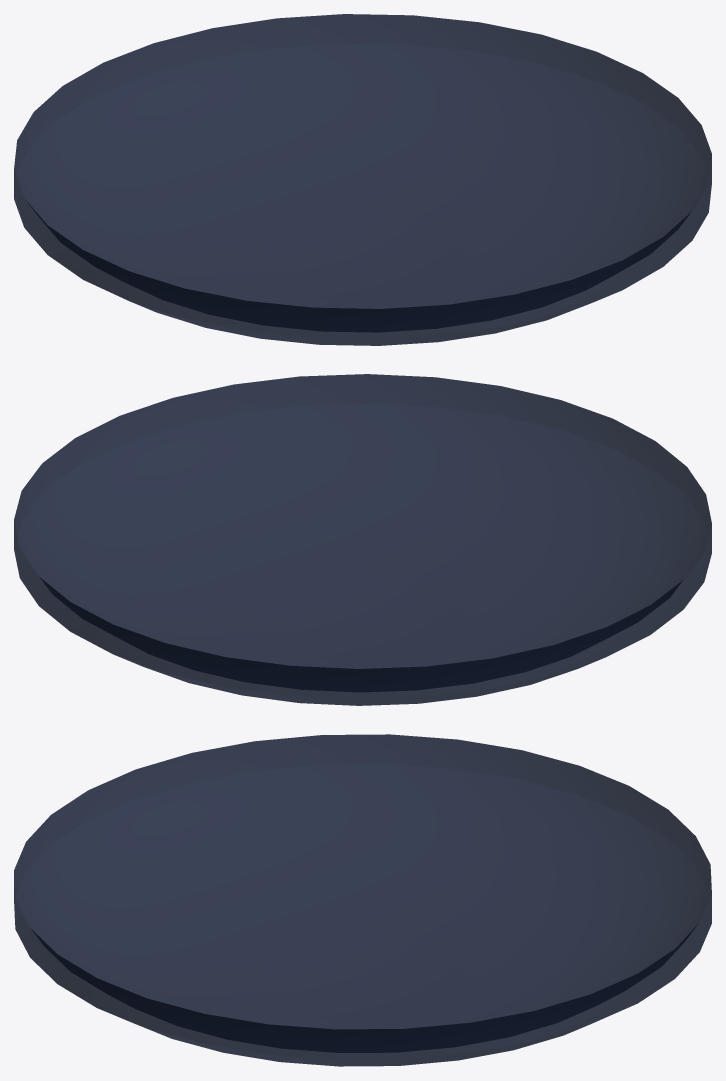
The model's file is SighConj_pivot.obj.
3 renders of one model, top to bottom at view 1: azimuth 30°, elevation 25°; view 2: azimuth 150°, elevation 25°; view 3: azimuth 270°, elevation 25°, orthographic.
Parts seen in each view (by area): view 1: SighConj_pivot; view 2: SighConj_pivot; view 3: SighConj_pivot.
Part boxes in pixels (bbox=[...]): SighConj_pivot: bbox=[14, 14, 711, 345]; SighConj_pivot: bbox=[14, 374, 711, 705]; SighConj_pivot: bbox=[14, 734, 711, 1066].
Bounding box in the file's own units: 46.52 × 8.01 × 46.52.
